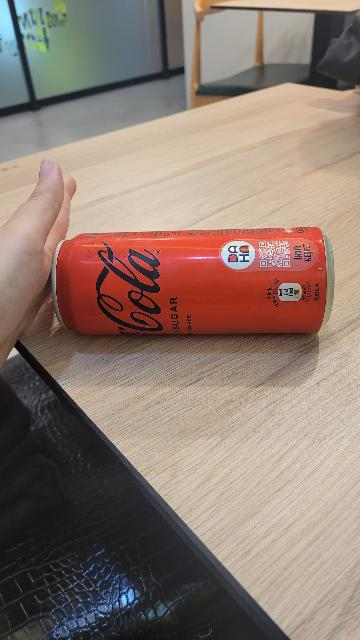Metal: (53, 223, 342, 348)
